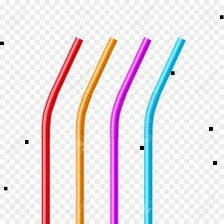drinking_straw: (137, 33, 190, 224), (36, 34, 87, 224), (105, 34, 153, 224), (71, 35, 119, 224)
